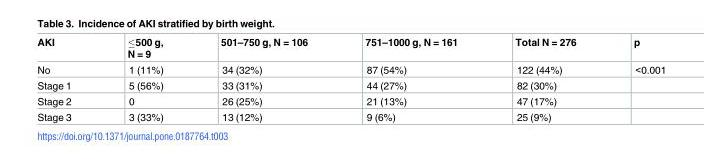table: (36, 37, 665, 122)
table column: (335, 37, 485, 122), (191, 37, 335, 122), (485, 37, 604, 122), (98, 37, 191, 122), (36, 37, 98, 122), (604, 37, 665, 122)
table column header: (36, 37, 665, 61)
table row: (36, 37, 665, 61), (36, 61, 665, 77), (36, 77, 665, 93), (36, 93, 665, 109), (36, 109, 665, 122)
